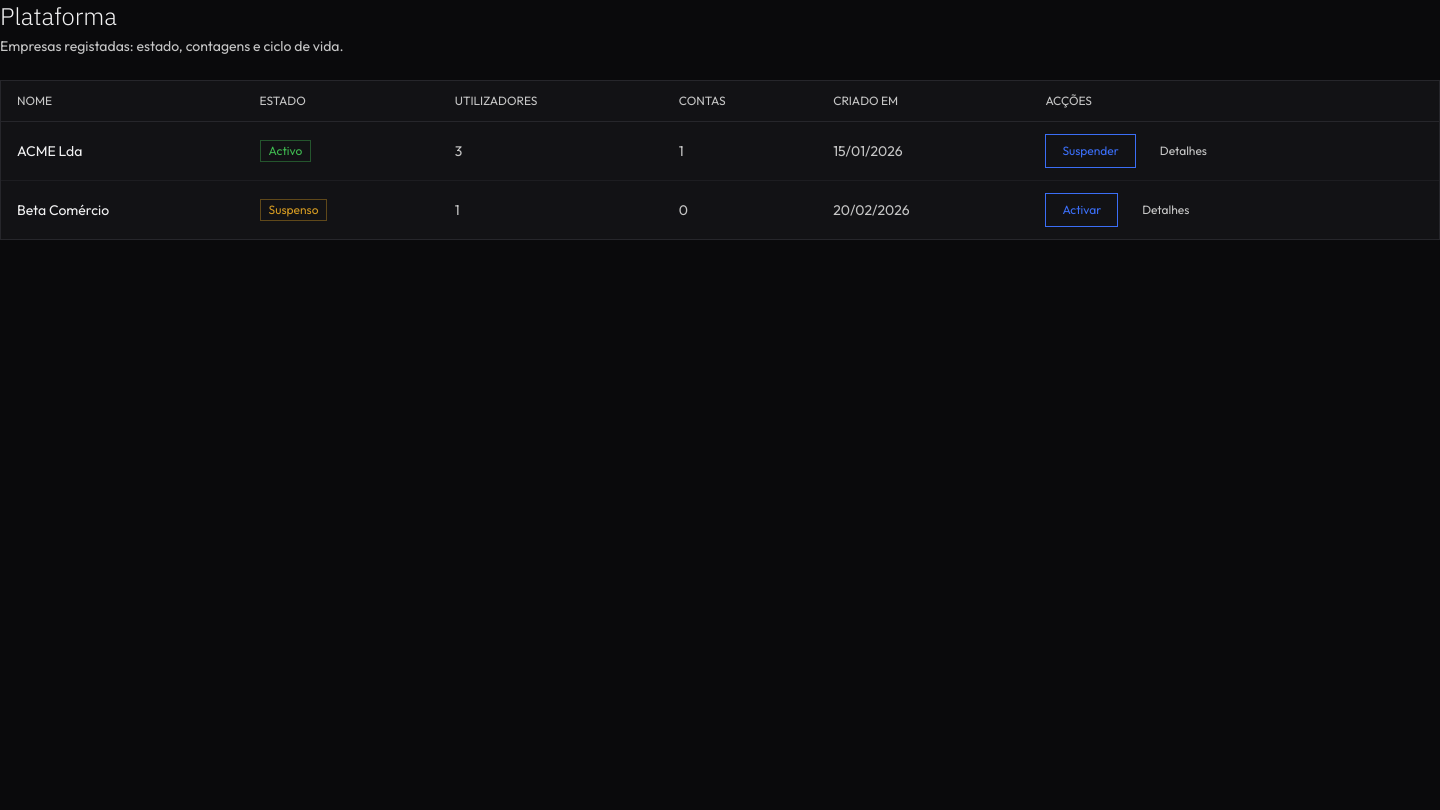
Test: PlatformPage › activar: modal confirma, POST 204 e linha passa a Activo
Expected: the text "ACME Lda" is shown, [1,122,244,180]
Click the button with aria-label "Activar Beta Comércio" at (1082, 210), box [1045,193,1118,227]
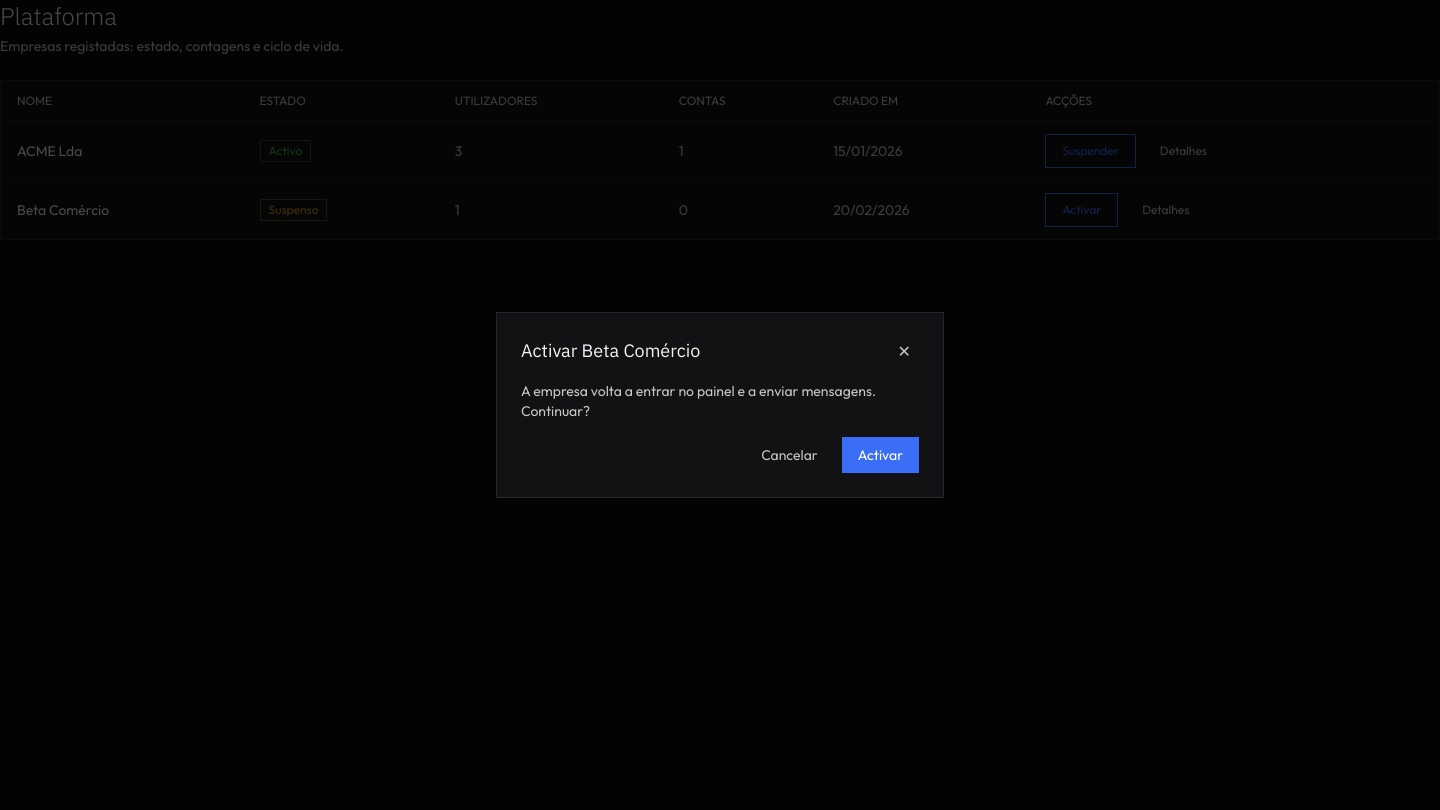
Click the button "Activar" at (880, 455), box [842,437,919,473]
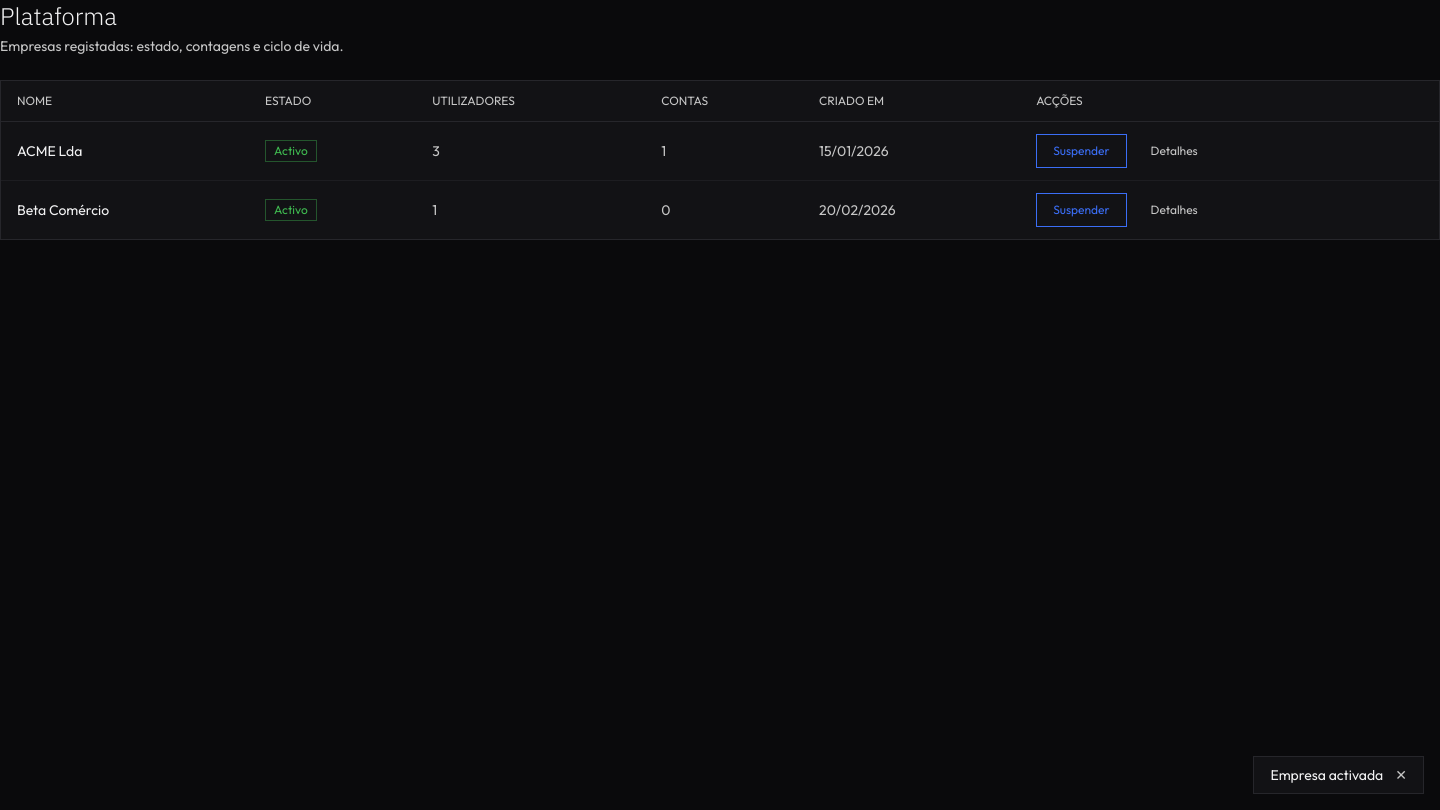
Now the text "Empresa activada" is shown, box [1270,765,1383,785]
Now the text "Activo" in the row of "Beta Comércio" is shown, box [274,202,308,217]
